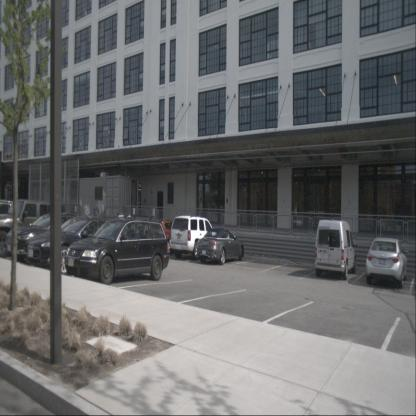vehicle-car: (65, 216, 170, 286), (27, 216, 127, 274), (6, 212, 95, 263), (0, 200, 65, 258), (314, 220, 356, 280), (169, 216, 219, 260), (366, 238, 407, 288), (196, 229, 244, 265), (154, 220, 194, 255)
